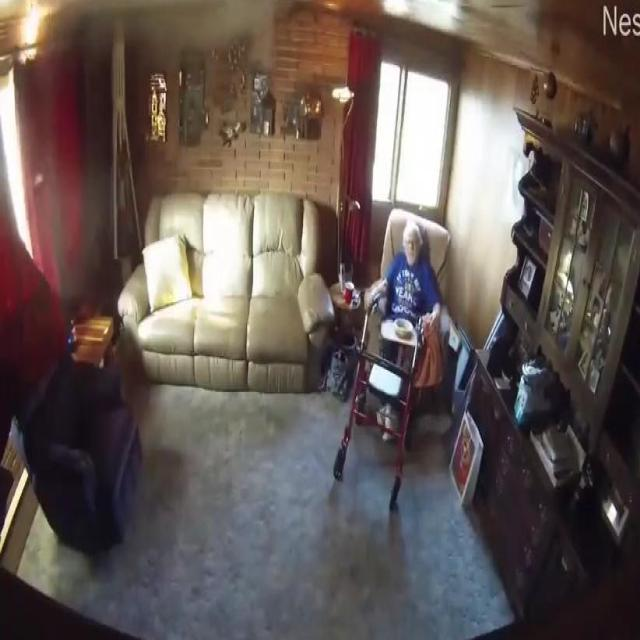fire: (83, 0, 274, 61)
smoke: (16, 0, 52, 68)
